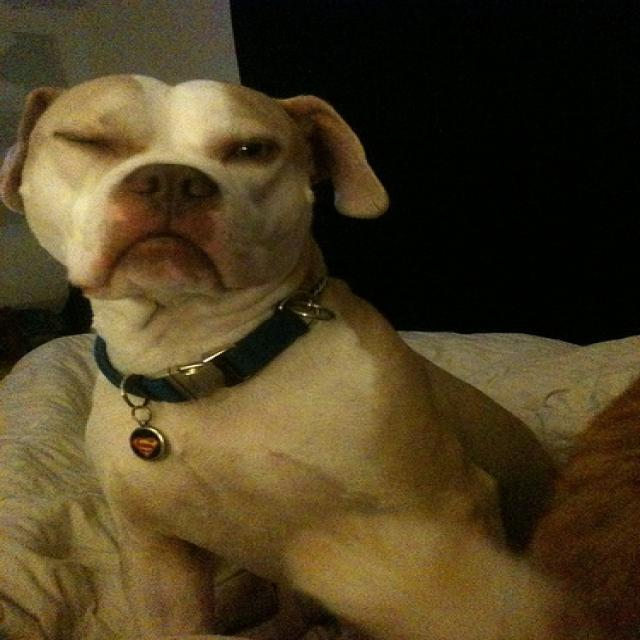dog-american_bulldog: (2, 60, 614, 637)
